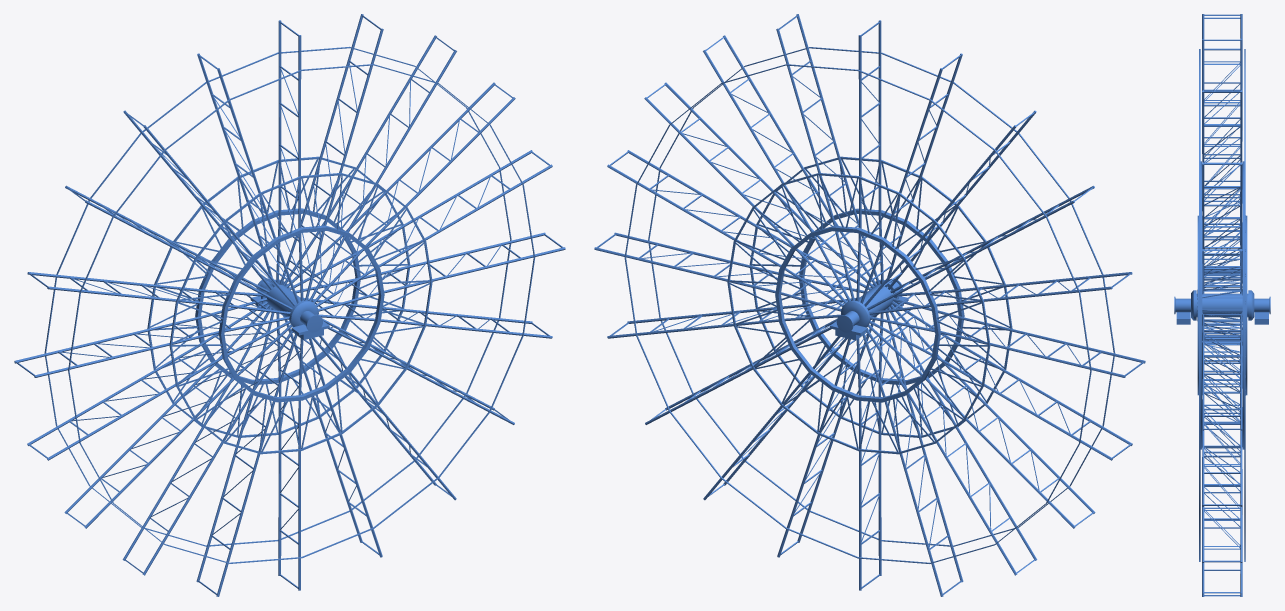
The model's file is soporteCabinas.obj.
3 renders of one model, left to right at view 1: azimuth 30°, elevation 25°; view 2: azimuth 150°, elevation 25°; view 3: azimuth 270°, elevation 25°, orthographic. The views are drawn at different scales.
Parts seen in each view (by area): view 1: koleso; view 2: koleso; view 3: koleso.
Part boxes in pixels (x1,y1,x2,y2): koleso: [14, 14, 565, 596]; koleso: [594, 14, 1145, 596]; koleso: [1174, 14, 1270, 596].
Bounding box in the file's own units: 11149 × 11149 × 1833.
